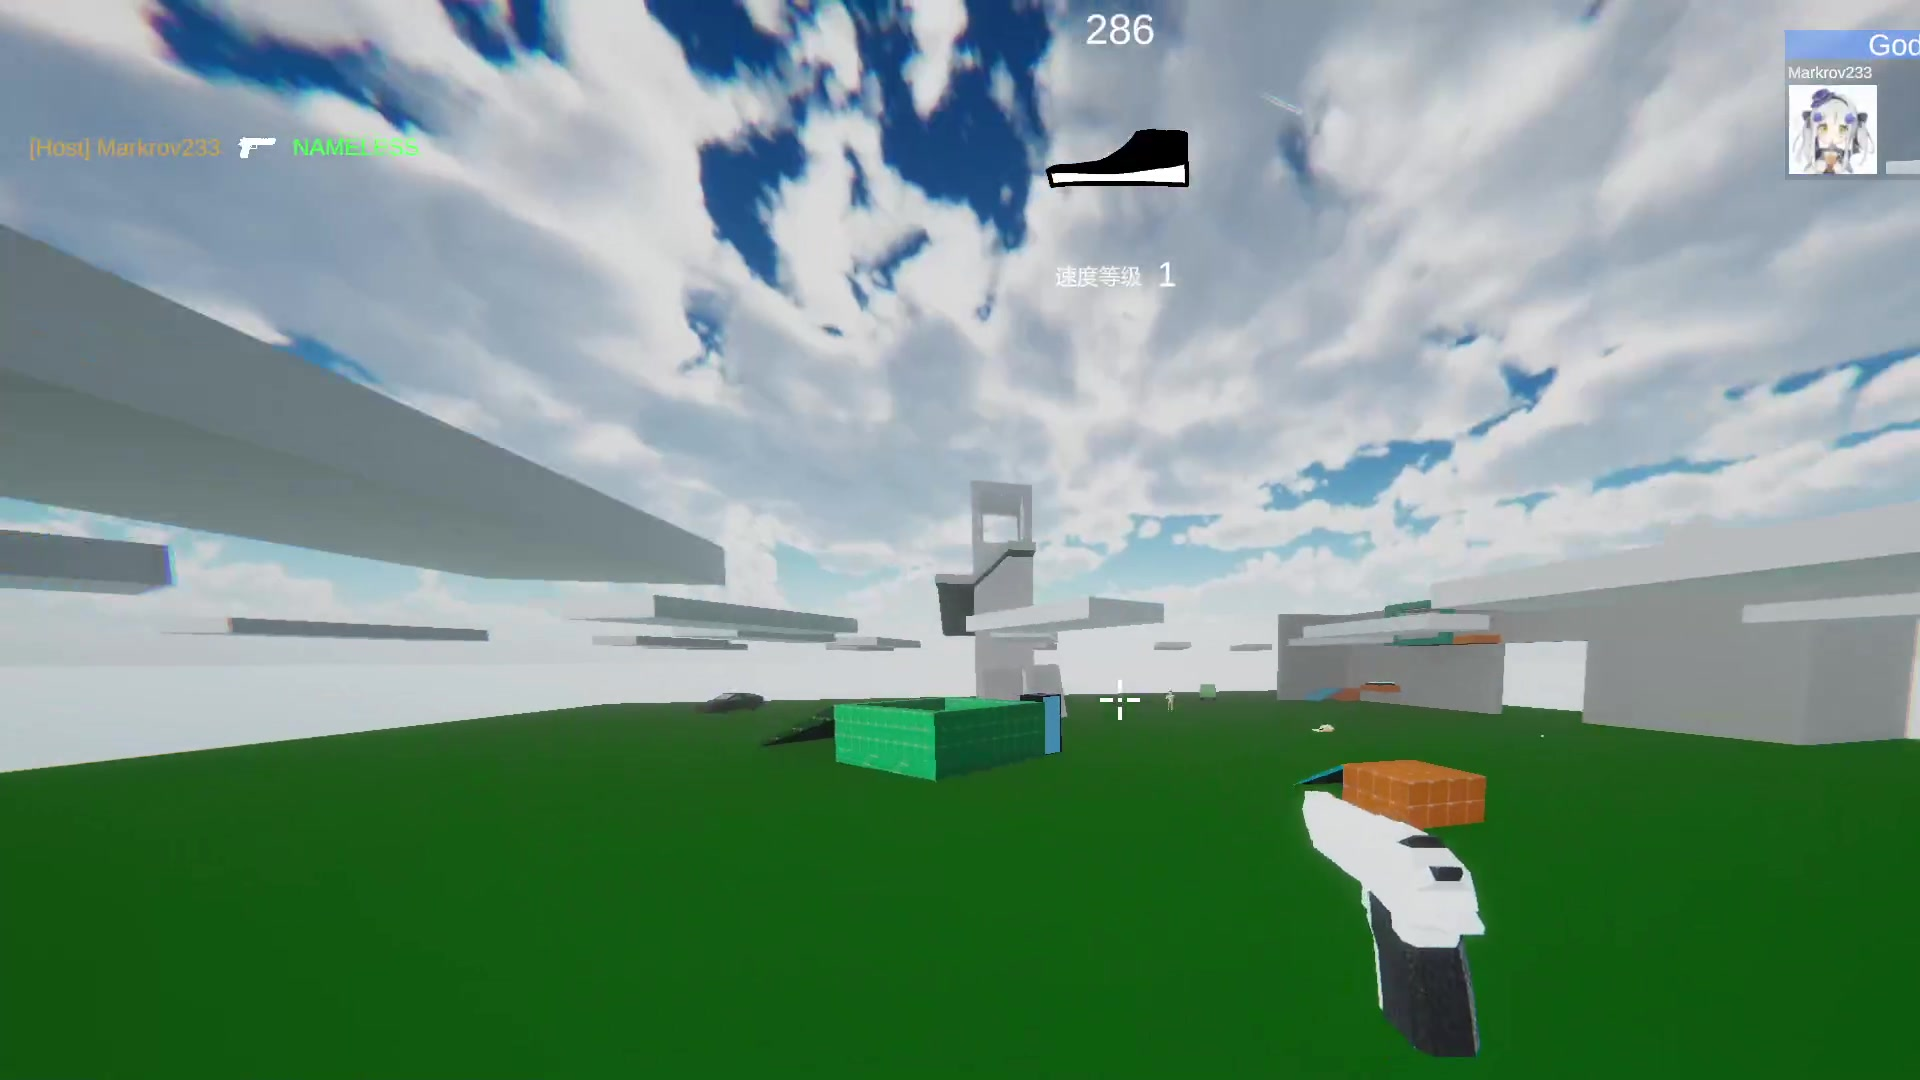human: (1164, 687, 1177, 709)
